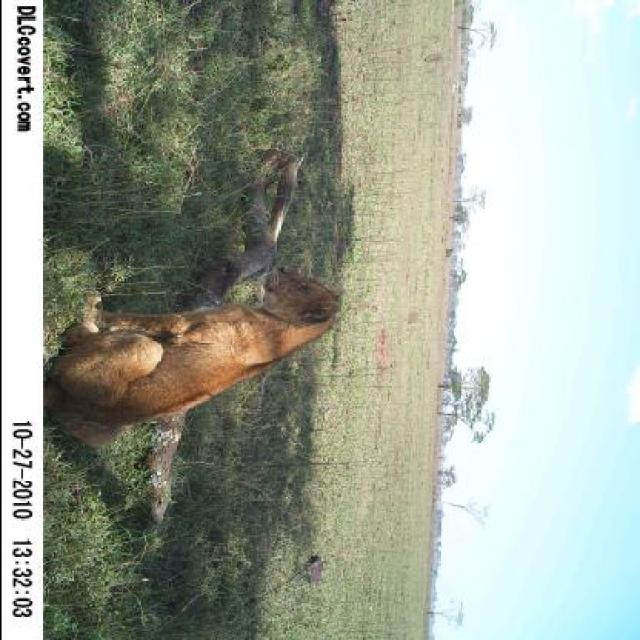Lion: (40, 258, 351, 448)
